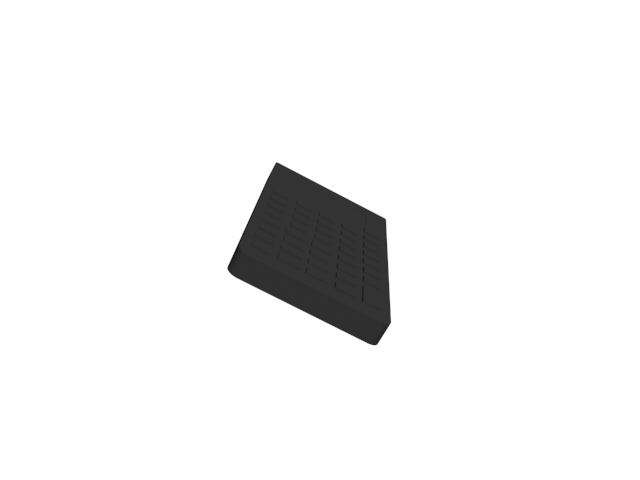calculator: (225, 161, 392, 352)
